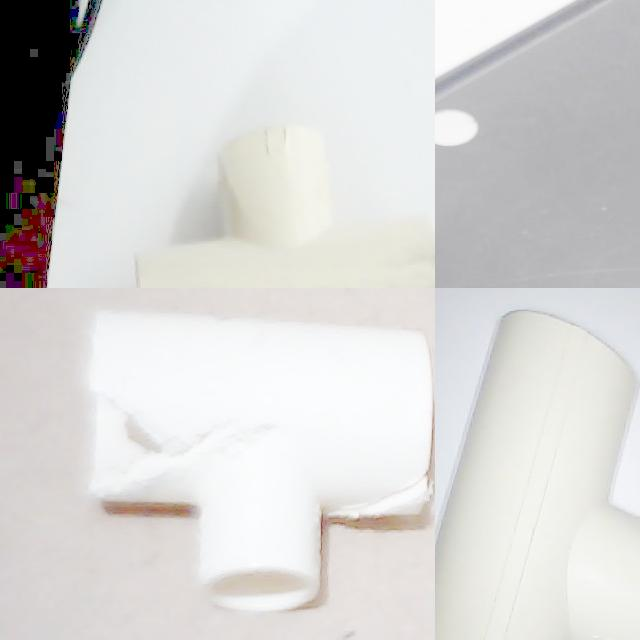Defective: (82, 355, 218, 502), (331, 470, 427, 534)
T Joint: (84, 309, 435, 616), (435, 311, 640, 640), (134, 126, 435, 288)
